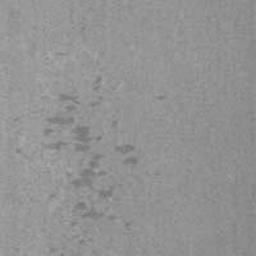Inclusion: (42, 92, 92, 155), (68, 152, 109, 189), (70, 200, 105, 221), (113, 142, 140, 168), (37, 138, 70, 154), (97, 187, 116, 200)
